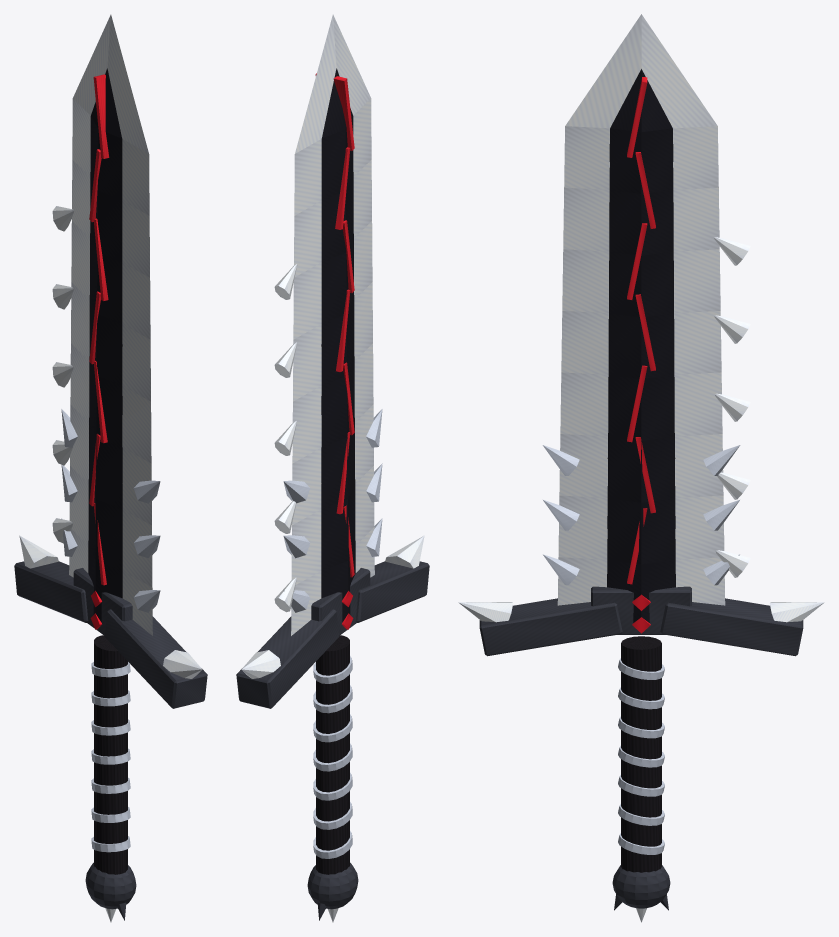
File: EmeraldTomb.obj
3 views of the same model, side by side, from view 1: azimuth 30°, elevation 25°; view 2: azimuth 150°, elevation 25°; view 3: azimuth 270°, elevation 25° (orthographic).
Parts seen in each view (by area): view 1: EmeraldTomb; view 2: EmeraldTomb; view 3: EmeraldTomb.
Boxes of the visible parts, x1,y1,x2,y2 form: EmeraldTomb: (14,14,207,922); EmeraldTomb: (236,14,429,922); EmeraldTomb: (458,14,824,922).
Bounding box in the file's own units: 0.4401 × 9.32 × 3.41.
1 material, 1 textured.
